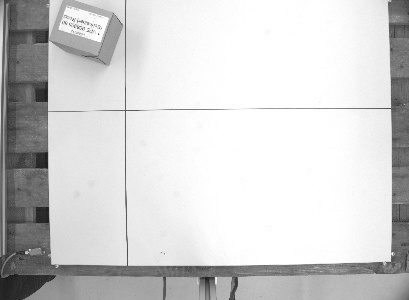b5: (45, 1, 124, 75)
